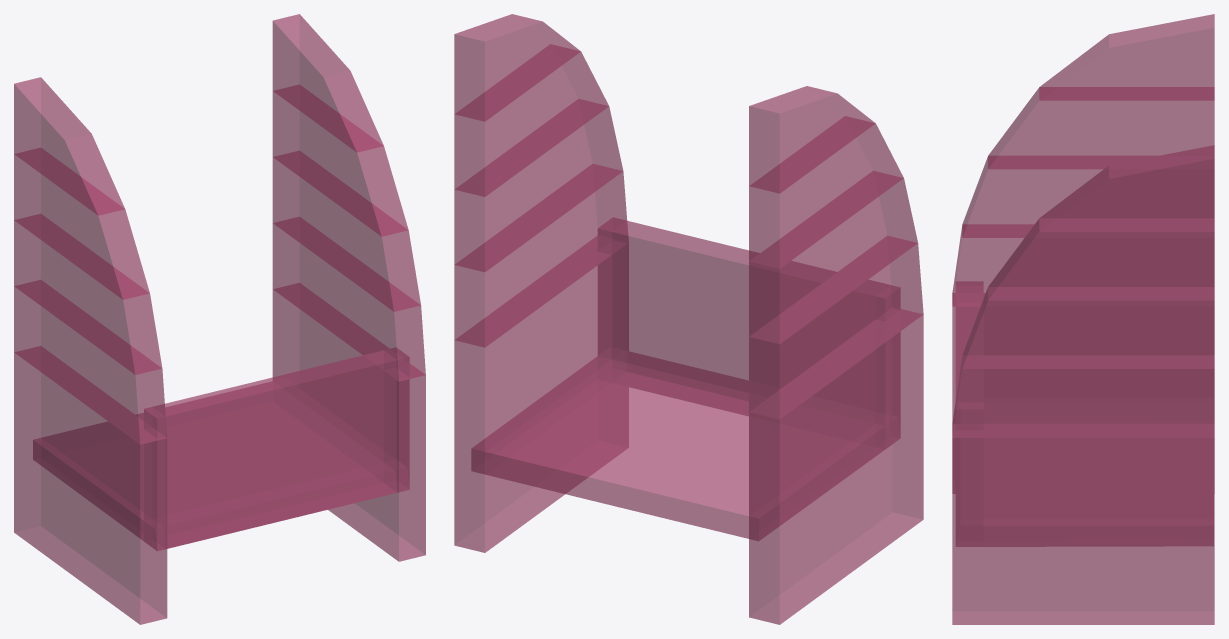
The model's file is SM_Bld_Balcony_02_Collision.fbx.
3 views of the same model, side by side, from view 1: azimuth 30°, elevation 25°; view 2: azimuth 150°, elevation 25°; view 3: azimuth 270°, elevation 25° (orthographic). The views are drawn at different scales.
Visible parts, largest first — view 1: SM_Bld_Balcony_02_Collision; view 2: SM_Bld_Balcony_02_Collision; view 3: SM_Bld_Balcony_02_Collision.
Boxes of the visible parts, x1,y1,x2,y2 form: SM_Bld_Balcony_02_Collision: (14,14,425,624); SM_Bld_Balcony_02_Collision: (454,14,923,624); SM_Bld_Balcony_02_Collision: (952,14,1214,624).
Bounding box in the file's own units: 252 × 379 × 193.
